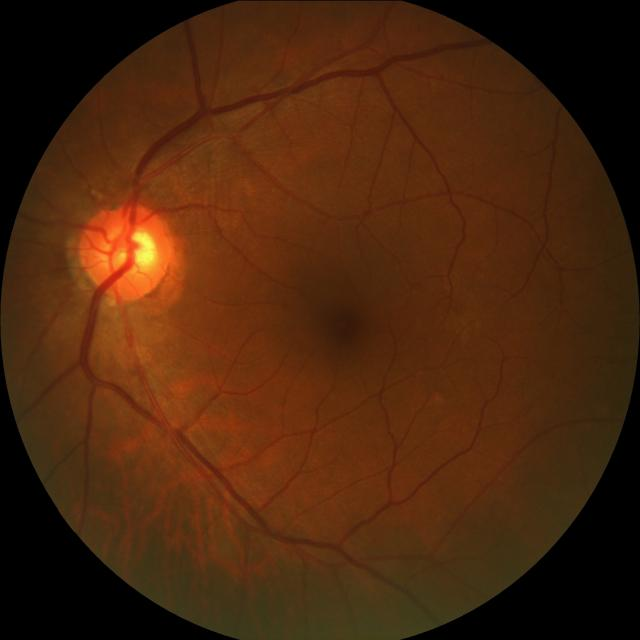OC: (100, 221, 158, 280)
OD: (80, 199, 176, 300)
